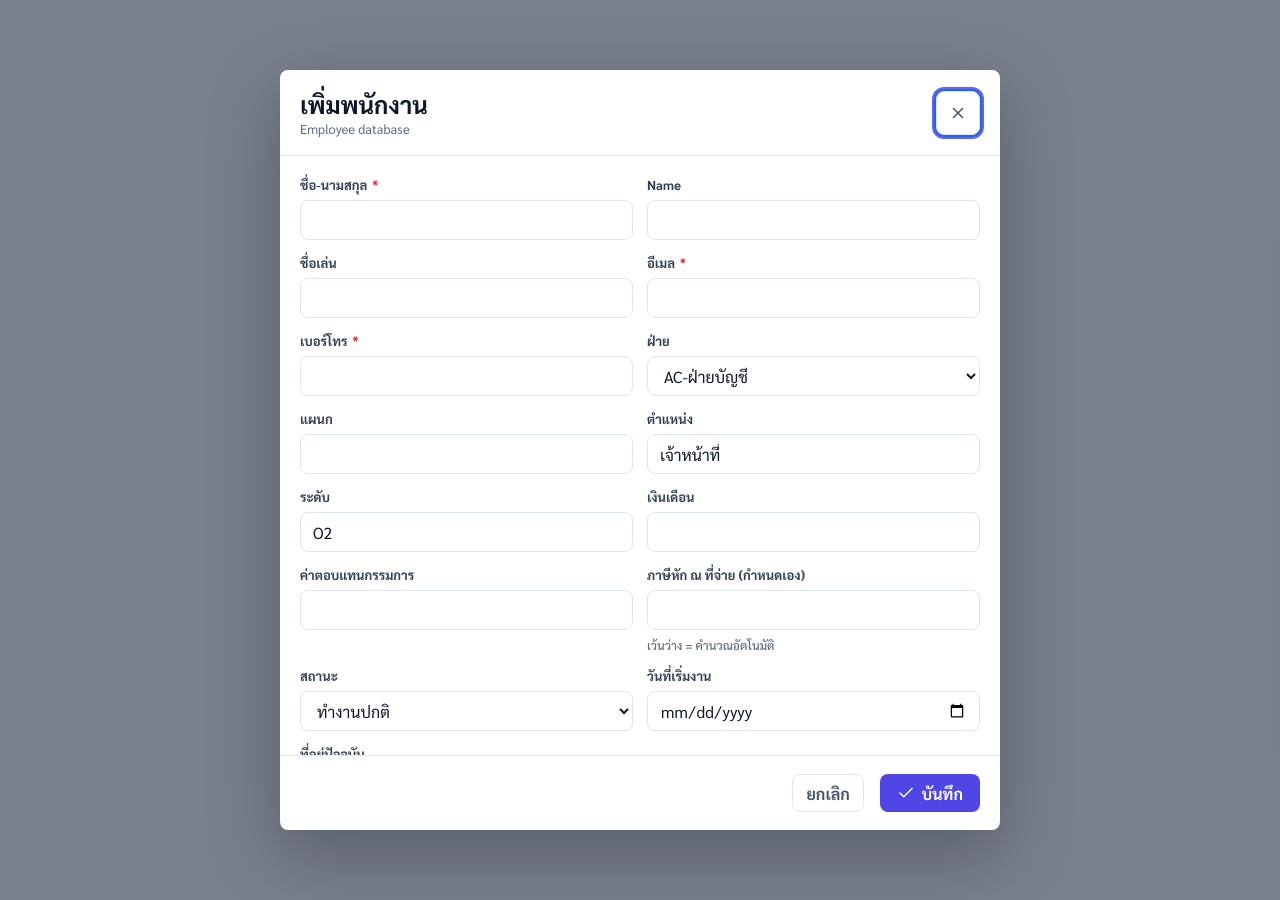
Test case: EmployeeFormModal form validation › blocks submit when email format is invalid
Type "ทดสอบ ระบบ" into the field labelled "ชื่อ-นามสกุล *". click: point(466, 220)
box: [300,200,633,240]
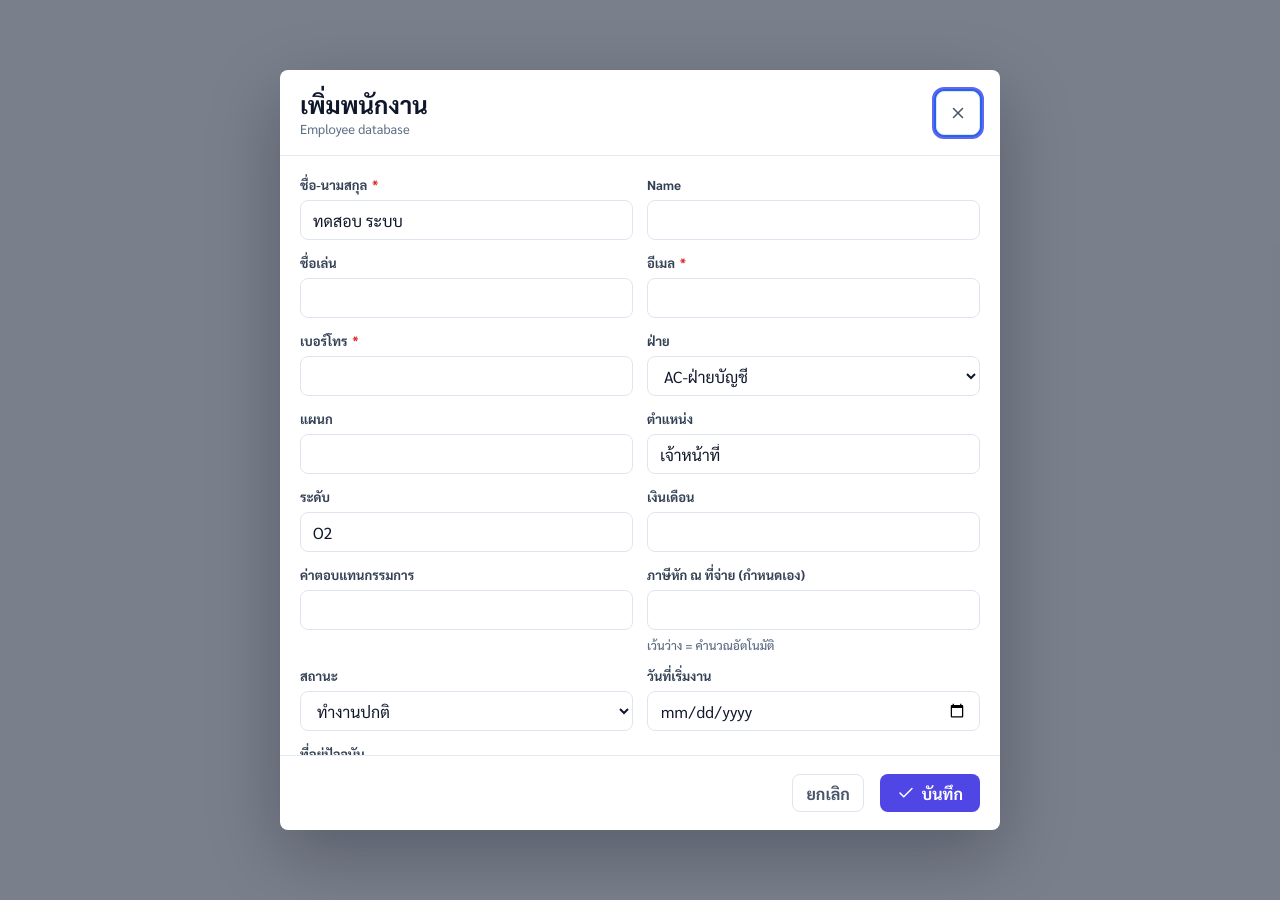
Type "not-an-email" into the field labelled "อีเมล *". click: point(814, 298)
box: [647,278,980,318]
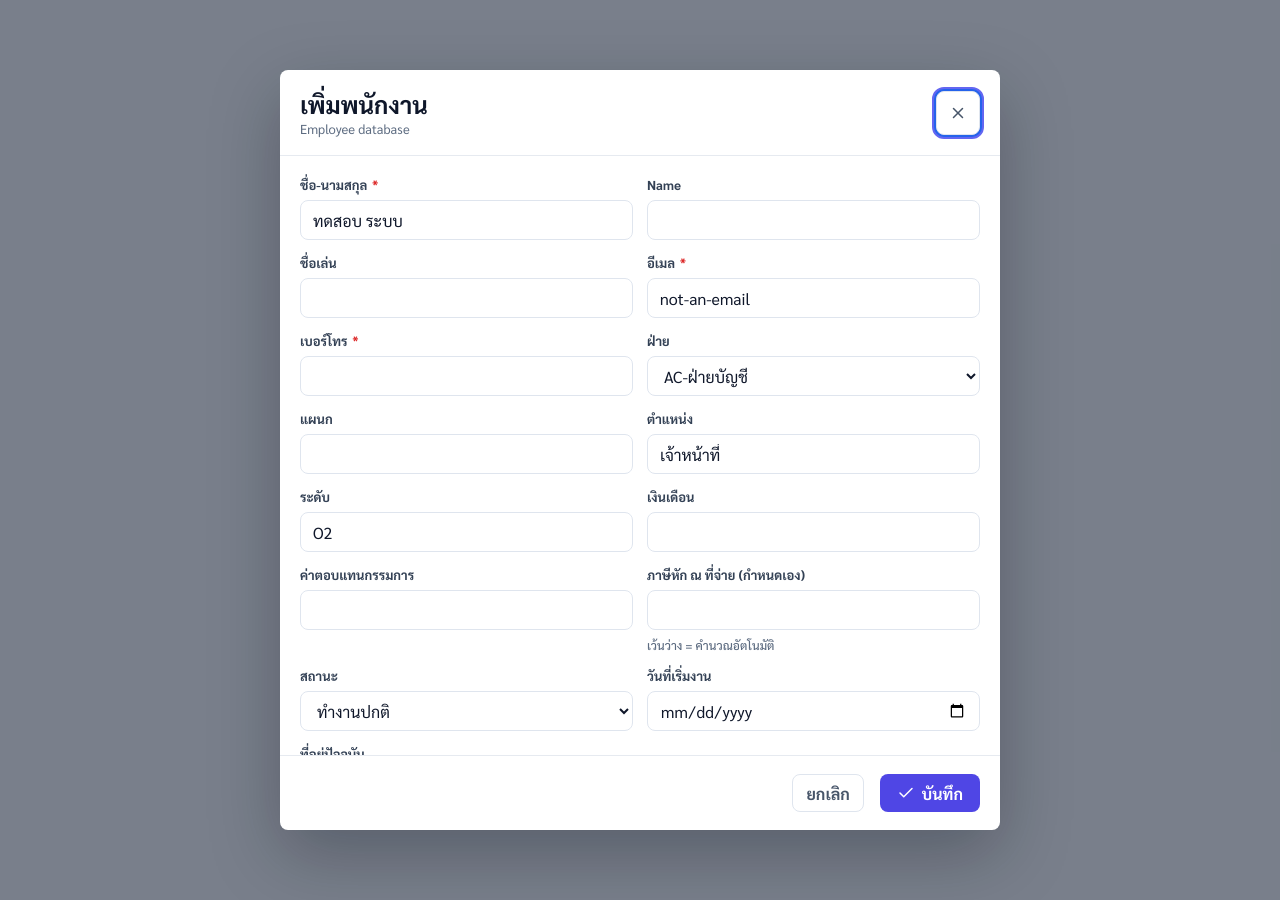
Type "0812345678" into the field labelled "เบอร์โทร *". click: point(466, 376)
box: [300,356,633,396]
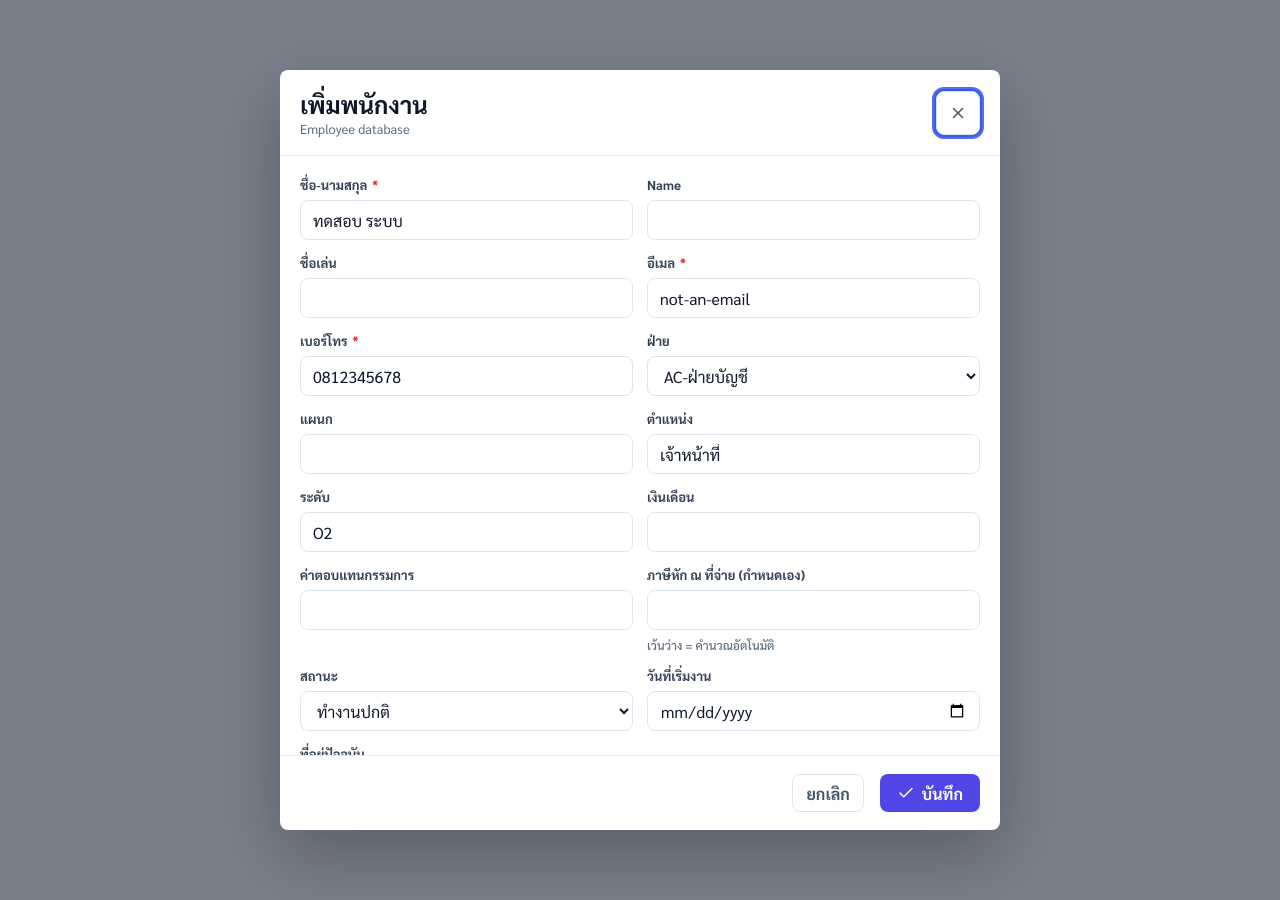
Click the button "บันทึก". click: point(930, 793)
box: [880,774,980,812]
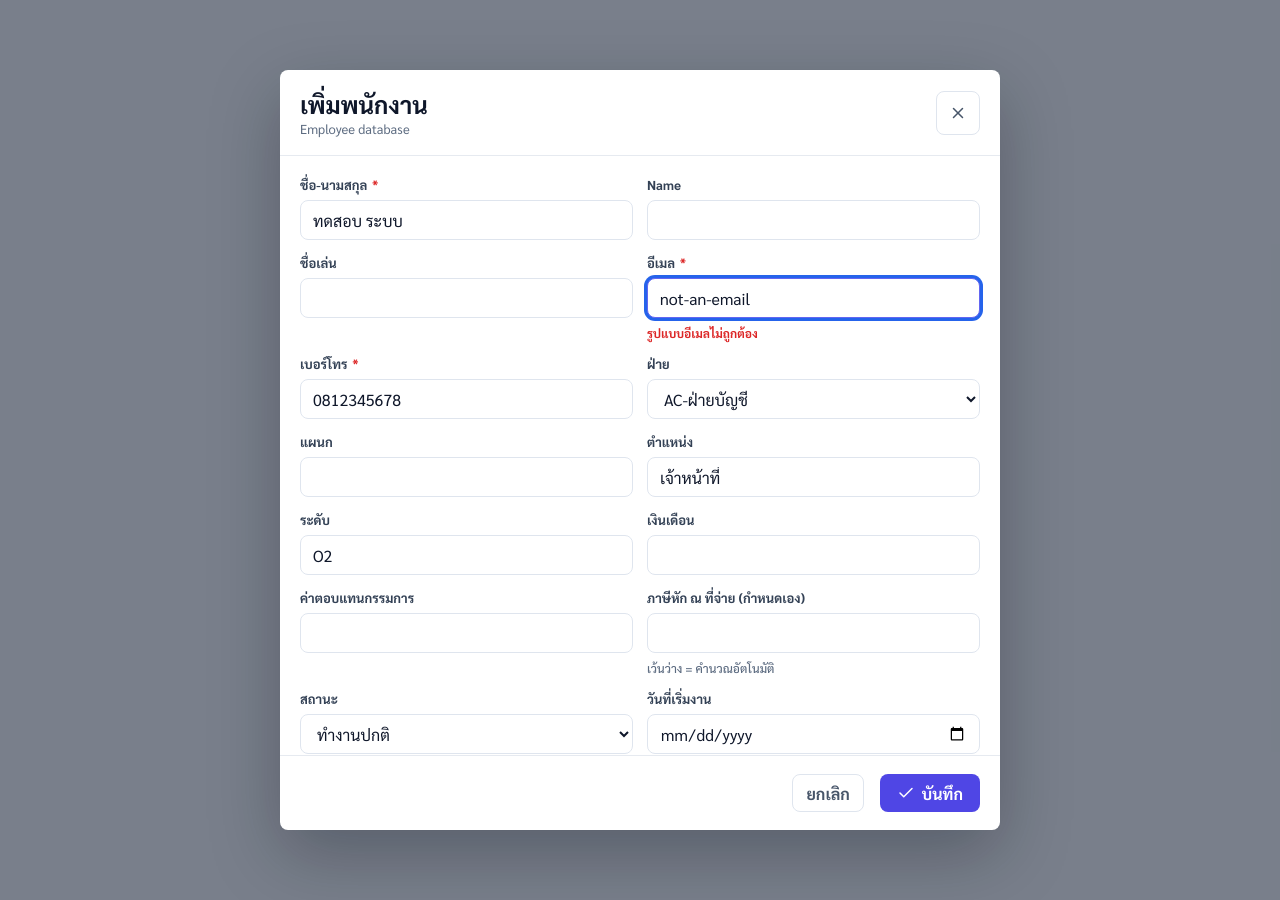
Check: the text "รูปแบบอีเมลไม่ถูกต้อง" is shown, box [647,325,758,341]
